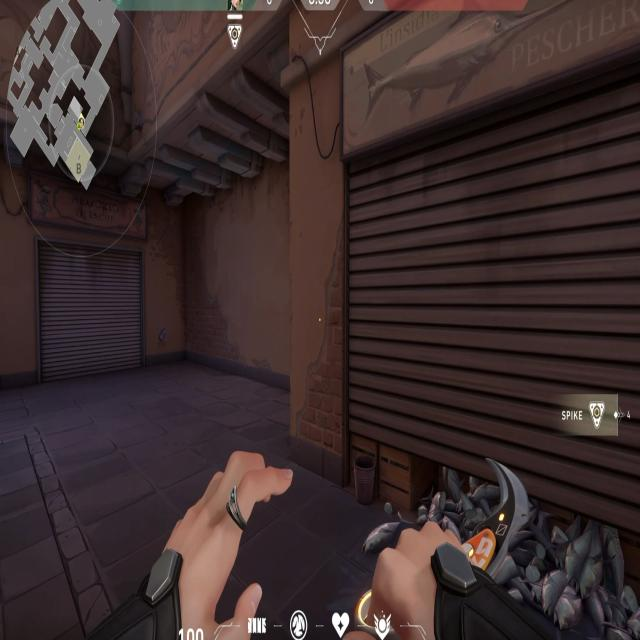B_Main_Corner: (288, 8, 640, 557)
